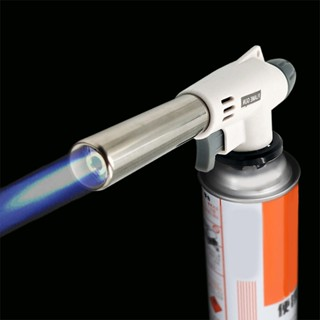gastorch: (62, 37, 308, 320)
